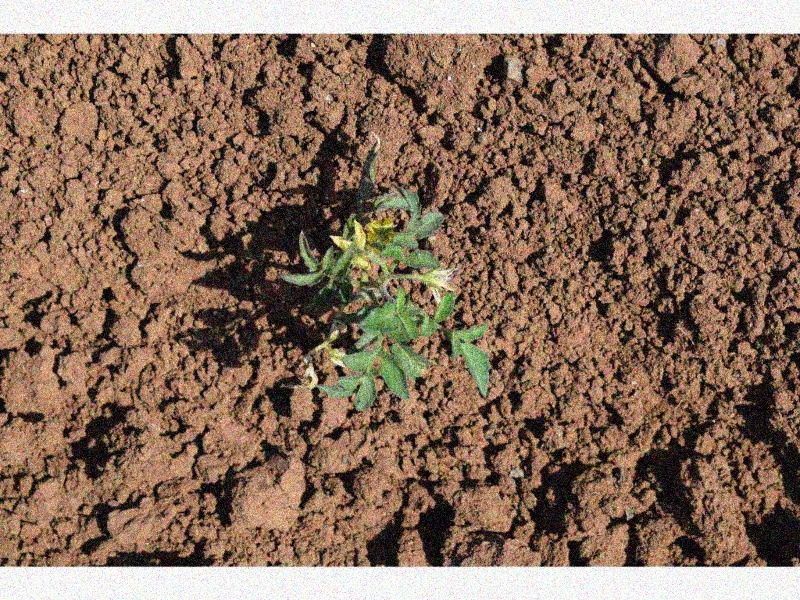tomato: (281, 139, 495, 415)
